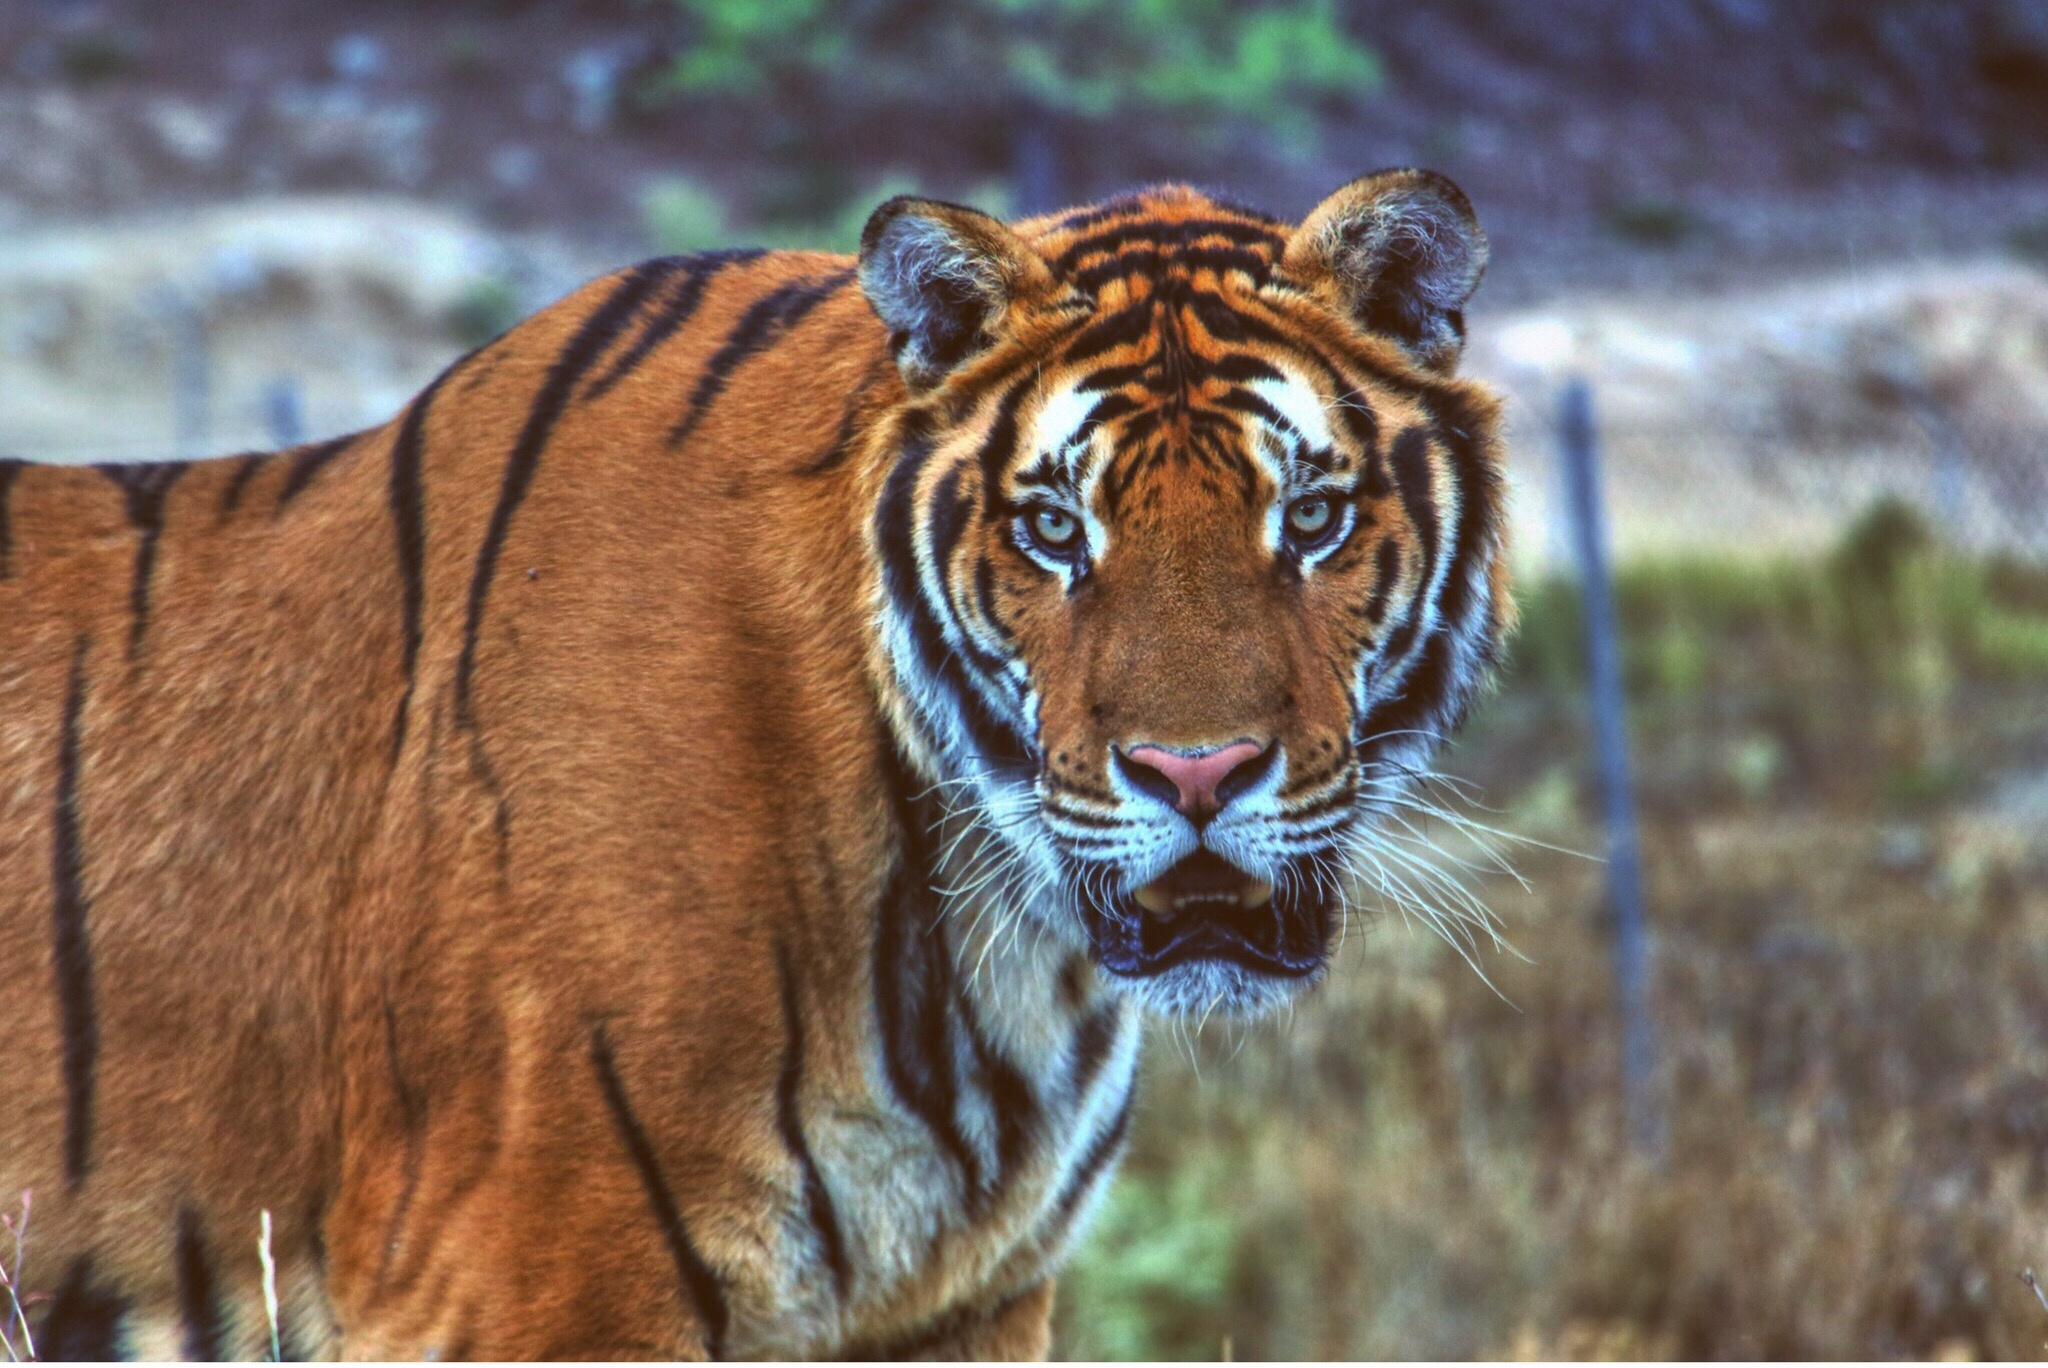tiger: (102, 191, 1549, 1298)
